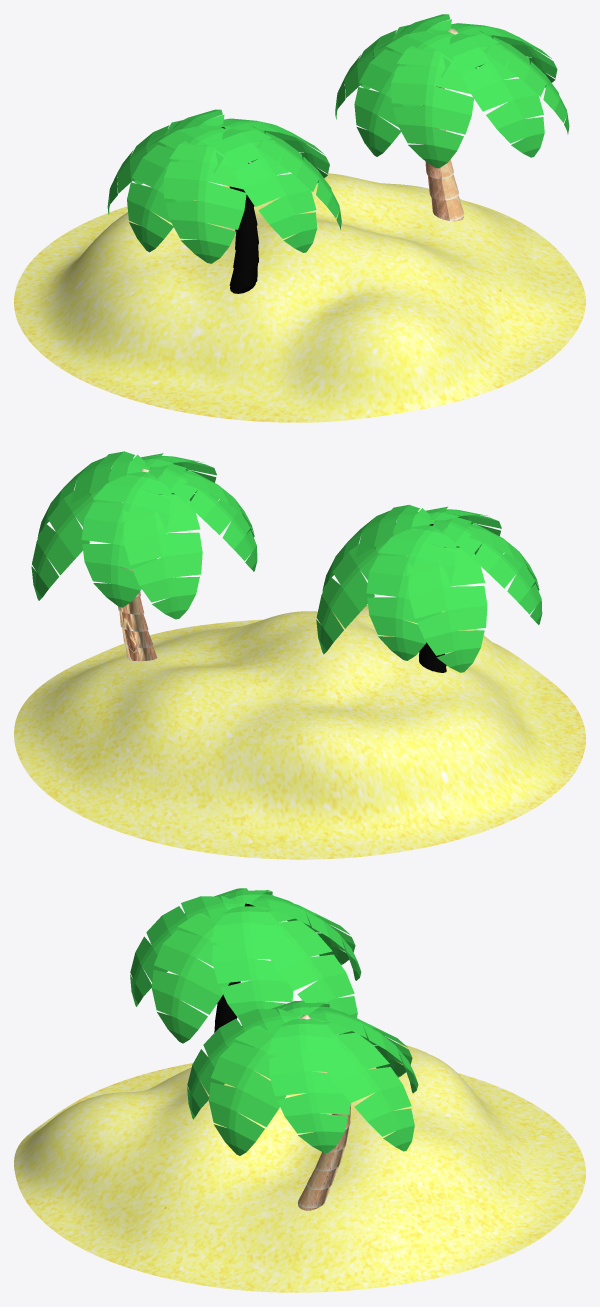
The model's file is islands.glb.
3 views of the same model, one above another, from view 1: azimuth 30°, elevation 25°; view 2: azimuth 150°, elevation 25°; view 3: azimuth 270°, elevation 25° (orthographic).
Parts seen in each view (by area): view 1: island, leaves.001, leaves.003, leaves.002, leaves, tree.001, tree; view 2: island, leaves.001, leaves.003, leaves.002, leaves, tree; view 3: island, leaves.001, leaves, leaves.003, leaves.002, tree.
Boxes of the visible parts, x1,y1,x2,y2 form: island: (14, 173, 585, 422); leaves.001: (354, 14, 557, 157); leaves.003: (127, 109, 329, 252); leaves.002: (107, 120, 341, 263); leaves: (335, 25, 569, 168); tree.001: (221, 127, 258, 293); tree: (422, 28, 464, 221); island: (14, 605, 585, 859); leaves.001: (37, 451, 257, 607); leaves.003: (322, 504, 542, 660); leaves.002: (316, 506, 539, 672); leaves: (31, 453, 254, 619); tree: (118, 468, 157, 661); island: (14, 1043, 585, 1292); leaves.001: (187, 1002, 418, 1152); leaves: (208, 1000, 414, 1155); leaves.003: (130, 890, 361, 1019); leaves.002: (151, 888, 357, 1043); tree: (298, 1014, 351, 1210).
Size of the model in its own units: 5 by 2.23 by 4.97.
4 materials, 2 textured.
